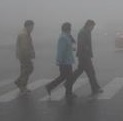person: (63, 18, 104, 94), (44, 21, 79, 98), (14, 19, 35, 93)
